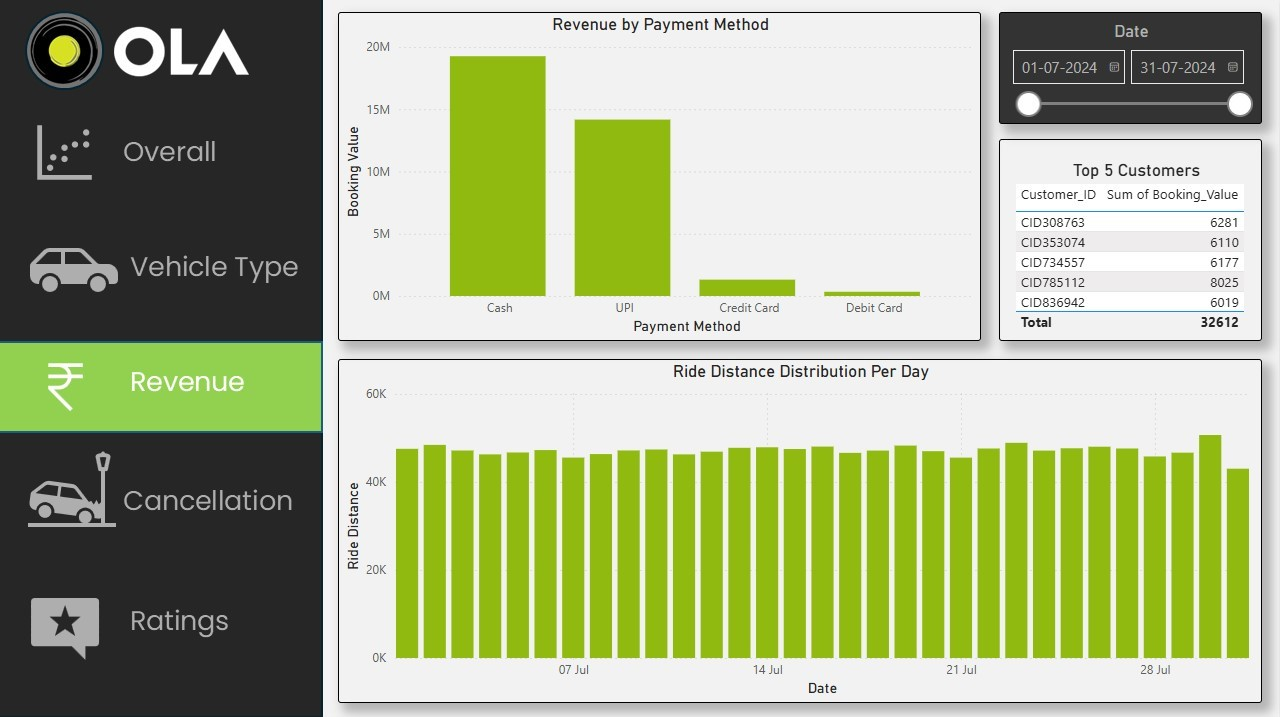

The page's visual inventory and layout, read from the dashboard file:
{"tool":"powerbi","page":{"name":"Revenue","canvas":[1280,720],"ordinal":2},"visuals":[{"type":"actionButton","box":[0,225.7,324,89.6],"z":0},{"type":"actionButton","box":[0,451.3,324,89.6],"z":1000},{"type":"actionButton","box":[0,580.4,324,89.6],"z":2000},{"type":"actionButton","box":[0,107.1,324,89.6],"z":3000},{"type":"columnChart","title":"Revenue by Payment Method","fields":{"Y":["Sum(July.Booking_Value)"],"Category":["July.Payment_Method"]},"box":[339,13,643,329],"z":4000},{"type":"columnChart","title":"Ride Distance Distribution Per Day","fields":{"Y":["Sum(July.Ride_Distance)"],"Category":["July.Date"]},"box":[339,360,924,344],"z":5000},{"type":"slicer","title":"Date","fields":{"Values":["July.Date"]},"box":[1000,13,263,112],"z":6000},{"type":"tableEx","title":"Top 5 Customers","fields":{"Values":["July.Customer_ID","Sum(July.Booking_Value)"]},"box":[1000,140,263,202],"z":7000}]}

Visuals, with their boxes on the page's 1280x720 design canvas (x1, y1, x2, y2). These are canvas units, not pixel positions in the 1280x717 screenshot, which may show the page scaled, cropped or inside an application window:
actionButton: box(0, 226, 324, 315)
actionButton: box(0, 451, 324, 541)
actionButton: box(0, 580, 324, 670)
actionButton: box(0, 107, 324, 197)
"Revenue by Payment Method" columnChart: box(339, 13, 982, 342)
"Ride Distance Distribution Per Day" columnChart: box(339, 360, 1263, 704)
"Date" slicer: box(1000, 13, 1263, 125)
"Top 5 Customers" tableEx: box(1000, 140, 1263, 342)
